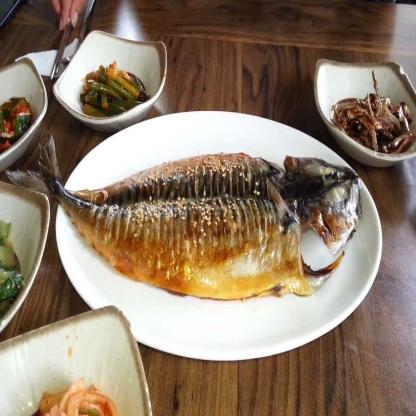Peixe: (19, 145, 372, 312)
